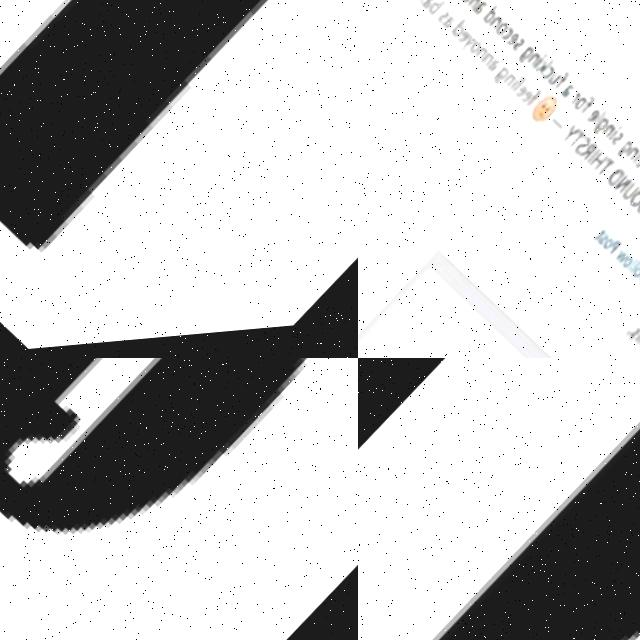A: (439, 18, 458, 38), (471, 6, 489, 24), (485, 62, 503, 80), (558, 90, 574, 107), (419, 0, 436, 16)
B: (426, 2, 446, 22)
C: (498, 32, 516, 50), (540, 73, 555, 89)
D: (603, 174, 624, 197), (450, 24, 470, 45), (481, 11, 501, 31), (459, 0, 479, 10)
E: (512, 89, 529, 107), (584, 116, 601, 133), (504, 38, 520, 56), (519, 97, 535, 113), (456, 34, 472, 50), (631, 163, 640, 181)
F: (575, 102, 598, 125), (549, 76, 572, 99), (524, 96, 543, 116), (634, 276, 640, 290)
G: (589, 124, 609, 146), (490, 73, 510, 93), (614, 149, 633, 169), (515, 52, 534, 72)
H: (586, 159, 608, 181), (632, 339, 640, 356)
I: (605, 133, 623, 151), (530, 61, 548, 78), (507, 81, 523, 97), (584, 157, 600, 172), (629, 156, 640, 173), (630, 336, 640, 351)
K: (534, 64, 554, 83)
L: (590, 117, 607, 135), (511, 85, 526, 100), (626, 269, 640, 282), (625, 268, 638, 280), (418, 0, 434, 9), (415, 0, 430, 6)
N: (364, 358, 640, 640), (611, 182, 631, 204), (623, 154, 639, 171), (487, 21, 503, 38), (466, 1, 482, 18), (480, 58, 496, 75), (600, 132, 616, 148), (501, 79, 517, 95), (525, 59, 540, 75), (474, 52, 489, 68), (637, 283, 640, 297)
O: (493, 26, 511, 45), (625, 196, 640, 218), (571, 104, 588, 121), (466, 45, 483, 62), (618, 264, 633, 279), (600, 245, 614, 260), (628, 273, 640, 289)
P: (604, 248, 621, 265)
Q: (0, 358, 358, 640)
R: (578, 150, 597, 170), (566, 99, 582, 115)
S: (571, 144, 592, 165), (510, 44, 526, 60), (436, 14, 452, 30), (609, 140, 624, 156), (624, 336, 639, 352), (595, 241, 609, 256), (631, 202, 640, 225), (409, 0, 424, 4)
T: (564, 137, 586, 159), (593, 166, 613, 188), (590, 236, 605, 252)
U: (617, 190, 639, 212), (546, 79, 562, 95)
W: (611, 257, 628, 275)
Y: (557, 131, 579, 153), (458, 41, 475, 59)
